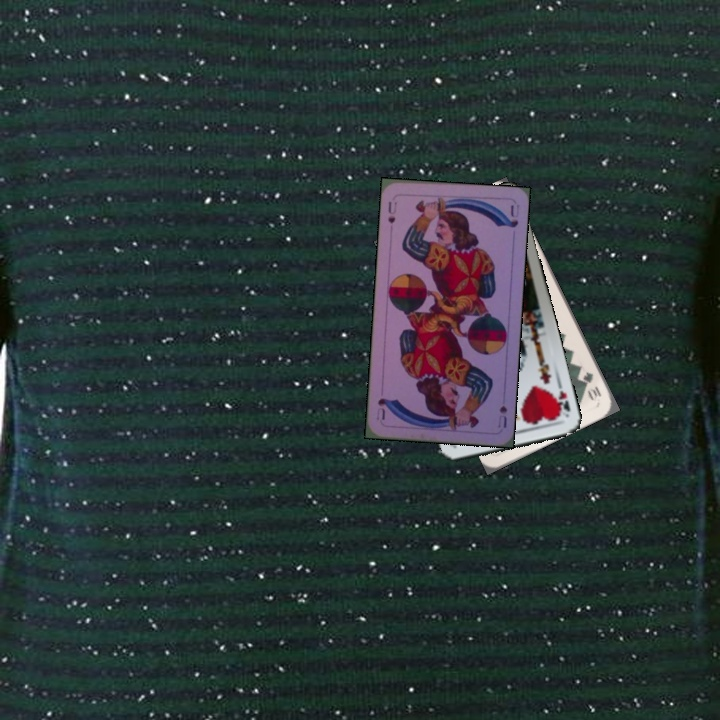G10: (579, 367, 604, 404)
HK: (551, 378, 573, 419)
SU: (384, 197, 400, 234), (494, 401, 510, 430)
